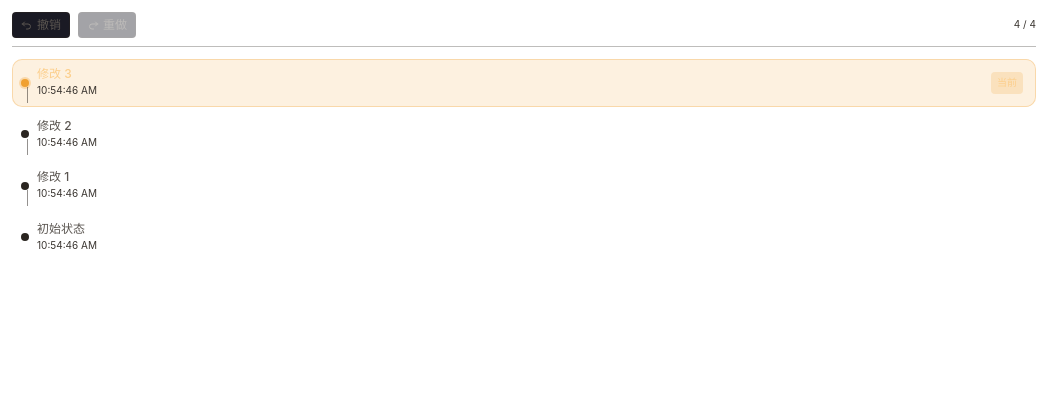
Test: VersionTimeline - 预览 › 预览面板关闭按钮工作
Click the button "修改 3 10:54:46 AM 当前": (54,74) x1=12 y1=59 x2=1036 y2=106
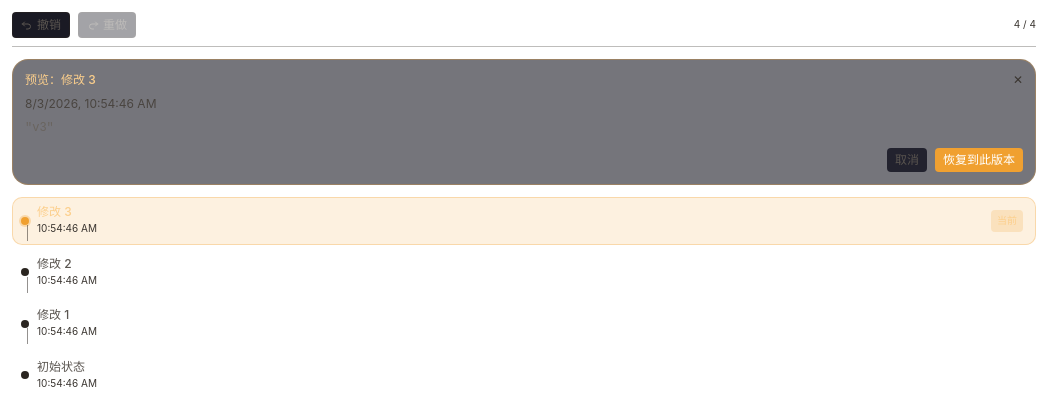
Click the button named "关闭预览": (1018,80) x1=1013 y1=72 x2=1023 y2=88
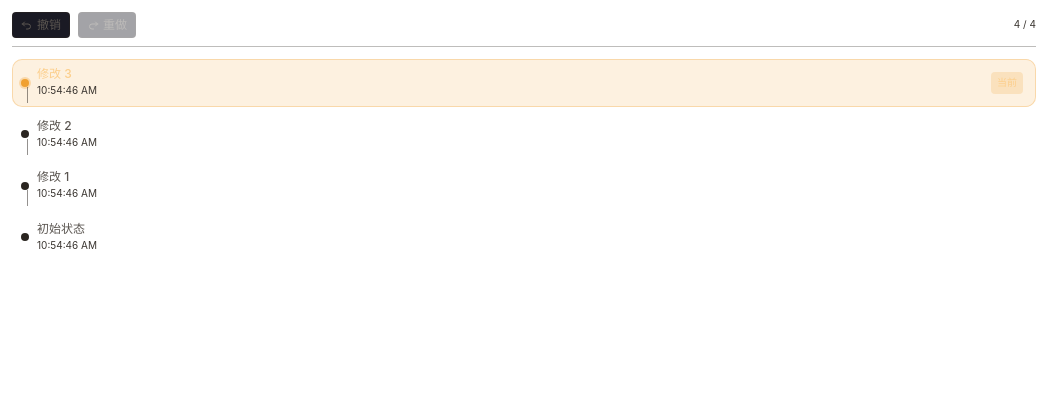
Result: the element with test id "version-preview" is gone
